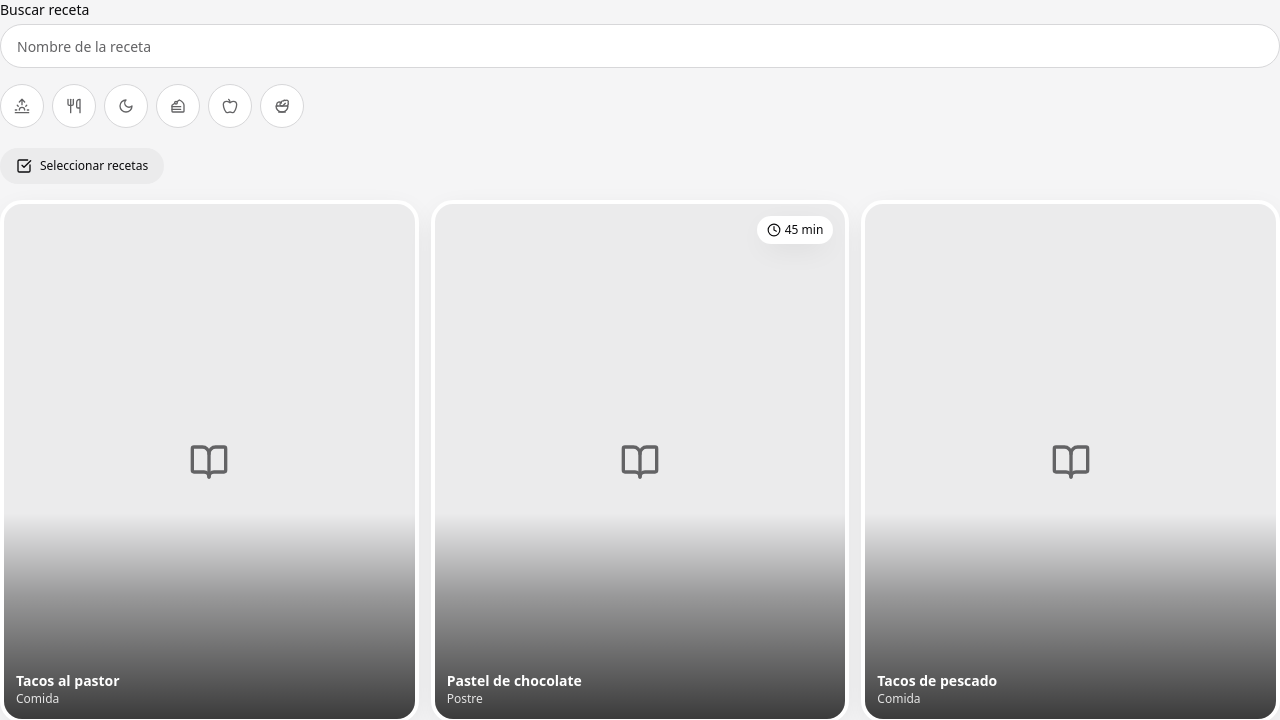
Scenario: RecipeList — smoke render (recipes-module) › typing in the search box narrows the rendered list by name
The width and height of the screenshot is (1280, 720).
Type "pastor" into the field labelled "Buscar receta".
click(640, 46); type("pastor")  # box [0, 24, 1279, 68]
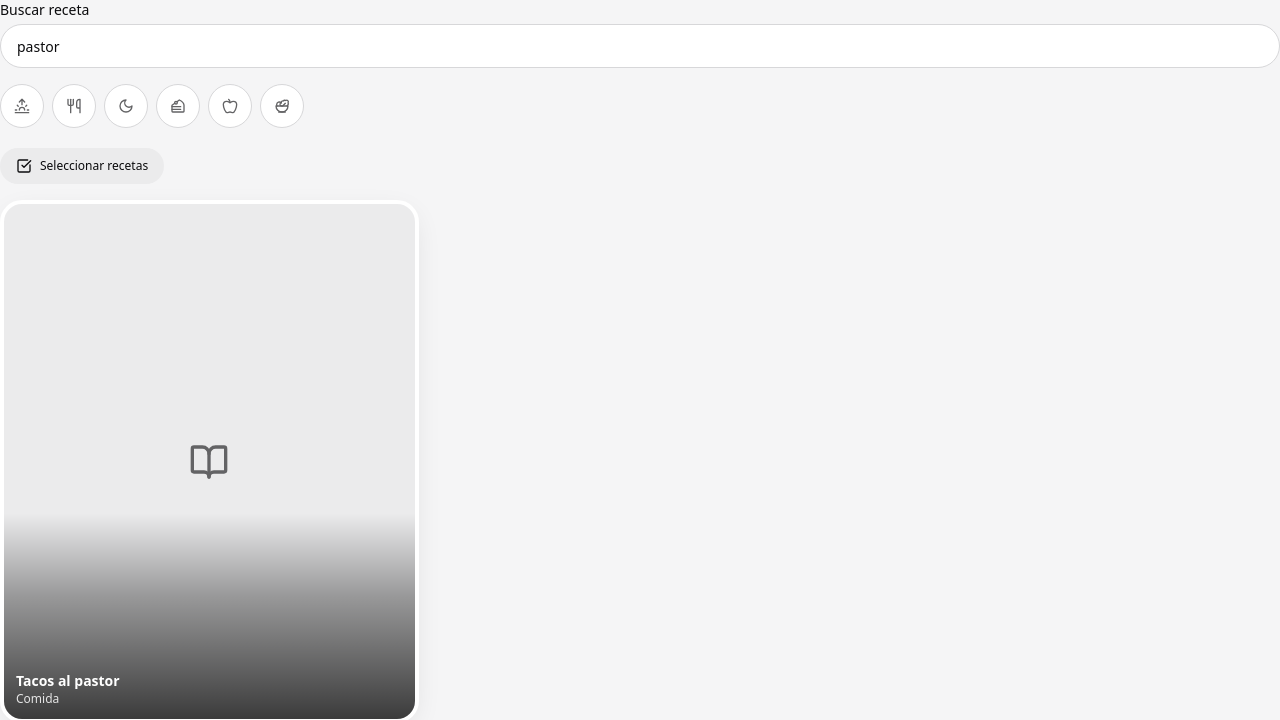
Expected: the text "Tacos al pastor" is shown, [16, 671, 120, 690]
Result: the link "Pastel de chocolate" is gone
Result: the link "Tacos de pescado" is gone
